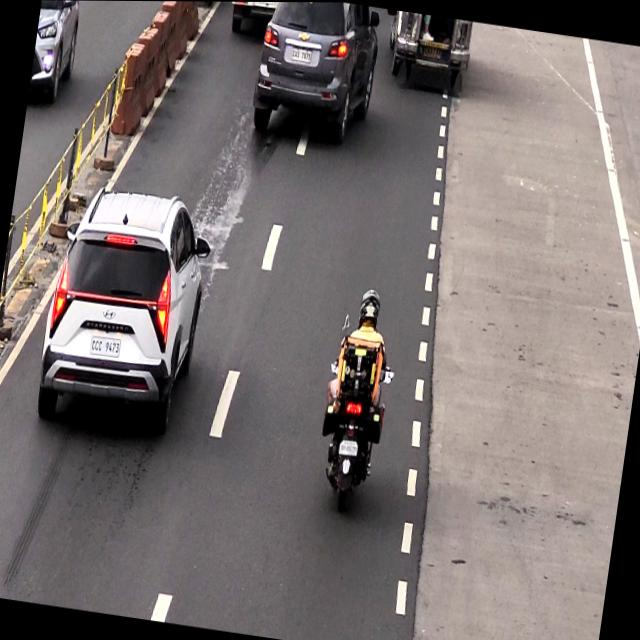Car: (32, 184, 215, 429), (246, 1, 384, 151)
License-Plate: (86, 333, 122, 360), (336, 436, 359, 461), (289, 48, 314, 64)
Motorcycle: (319, 286, 400, 500)
